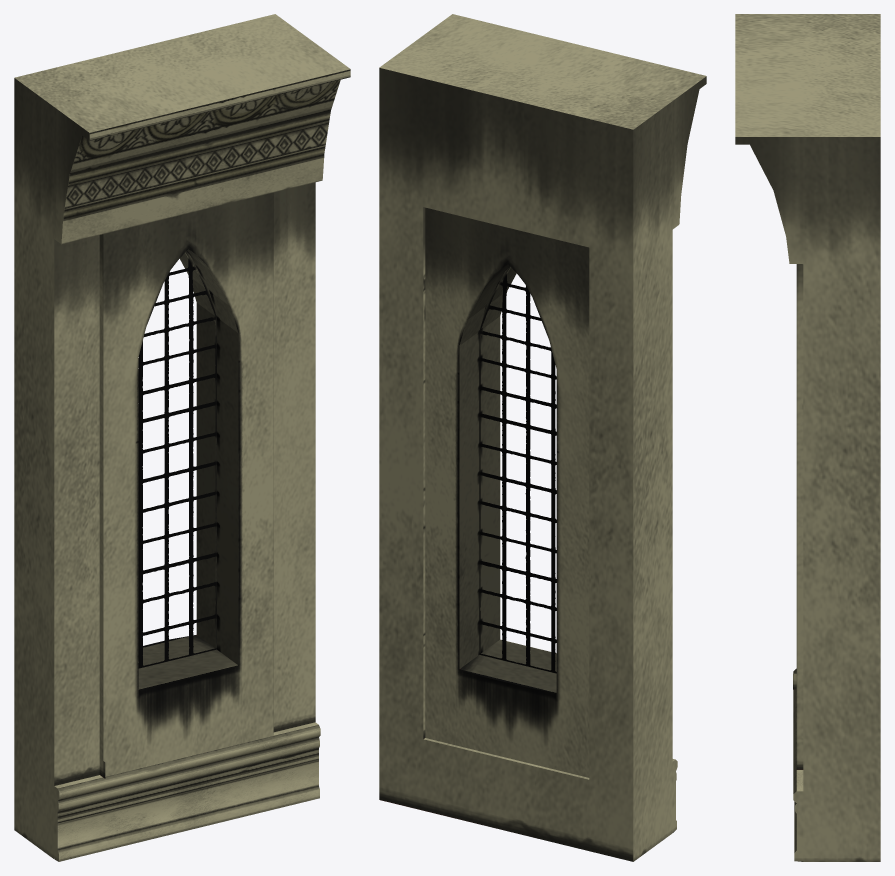
Rendered from Window.FBX.
3 renders of one model, left to right at view 1: azimuth 30°, elevation 25°; view 2: azimuth 150°, elevation 25°; view 3: azimuth 270°, elevation 25°, orthographic. The views are drawn at different scales.
Visible parts, largest first — view 1: Object030; view 2: Object030; view 3: Object030.
Boxes of the visible parts, left/top/right/bottom form: Object030: left=14, top=14, right=350, bottom=861; Object030: left=379, top=14, right=706, bottom=861; Object030: left=735, top=14, right=880, bottom=861.
Size of the model in its own units: 25 by 68.8 by 12.5.
